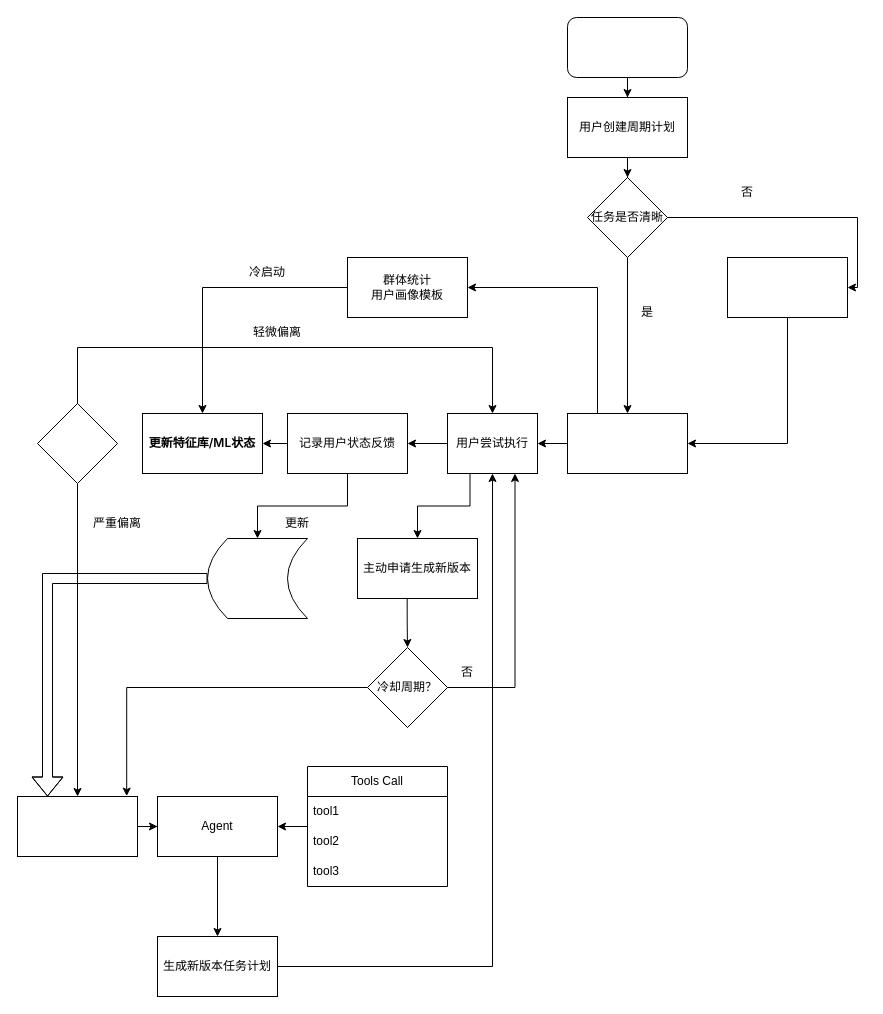
This 883x1014 diagram has some shape labels left out. Here are the shapes that lost their labels. From the top down, the centre of each, then its label:
(627,47): 开始
(787,287): 智能体生成提问，使任务可得到合理拆分
(77,443): 重排策略路由
(627,443): 生成V1版任务清单
(257,578): 用户画像记忆
(77,826): 构建提示词
